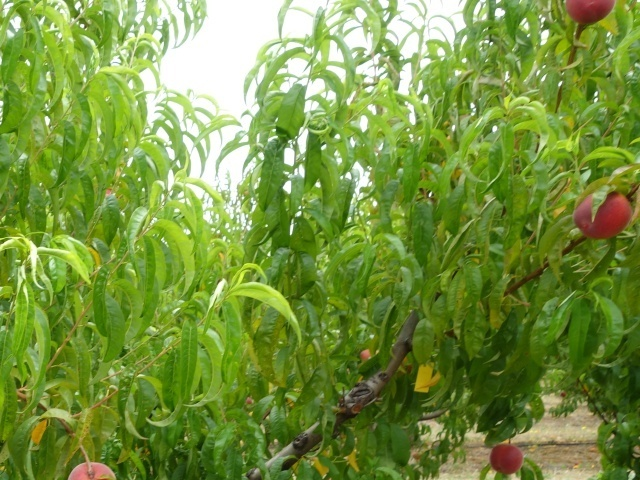peach: (569, 182, 634, 244), (484, 438, 524, 479), (561, 1, 615, 27)
